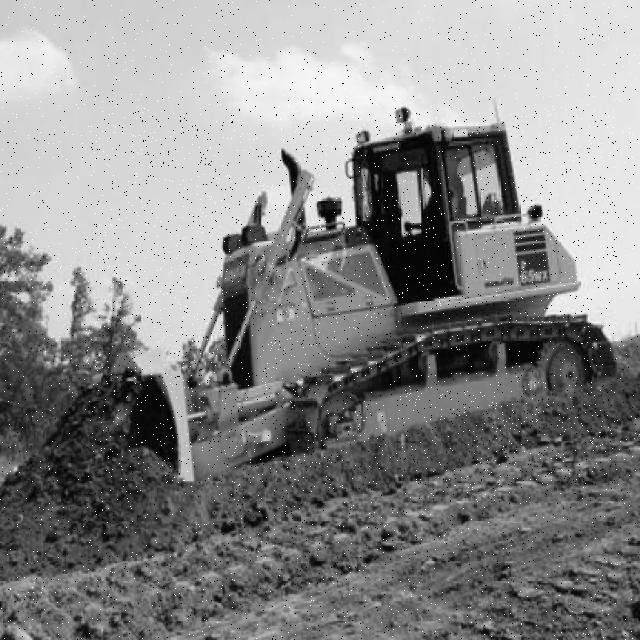Construction Equipment: (88, 109, 618, 485)
